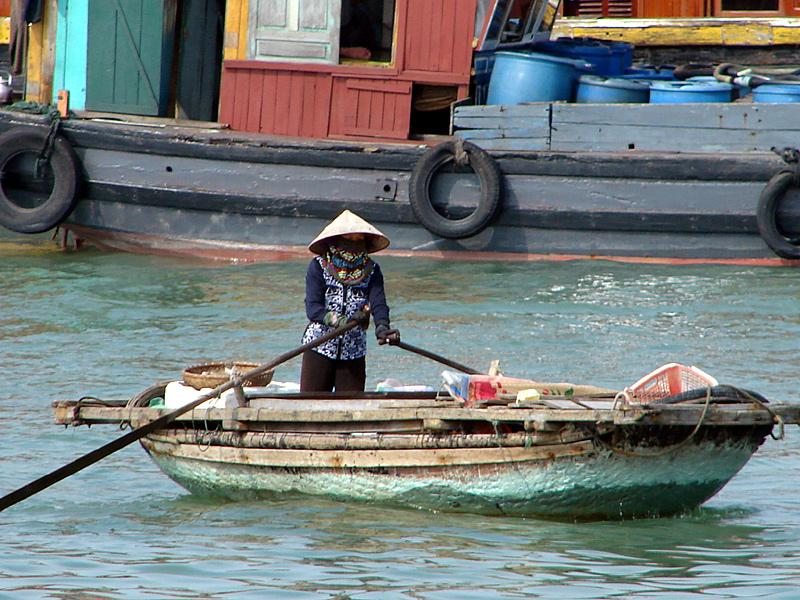person: (302, 210, 403, 398)
